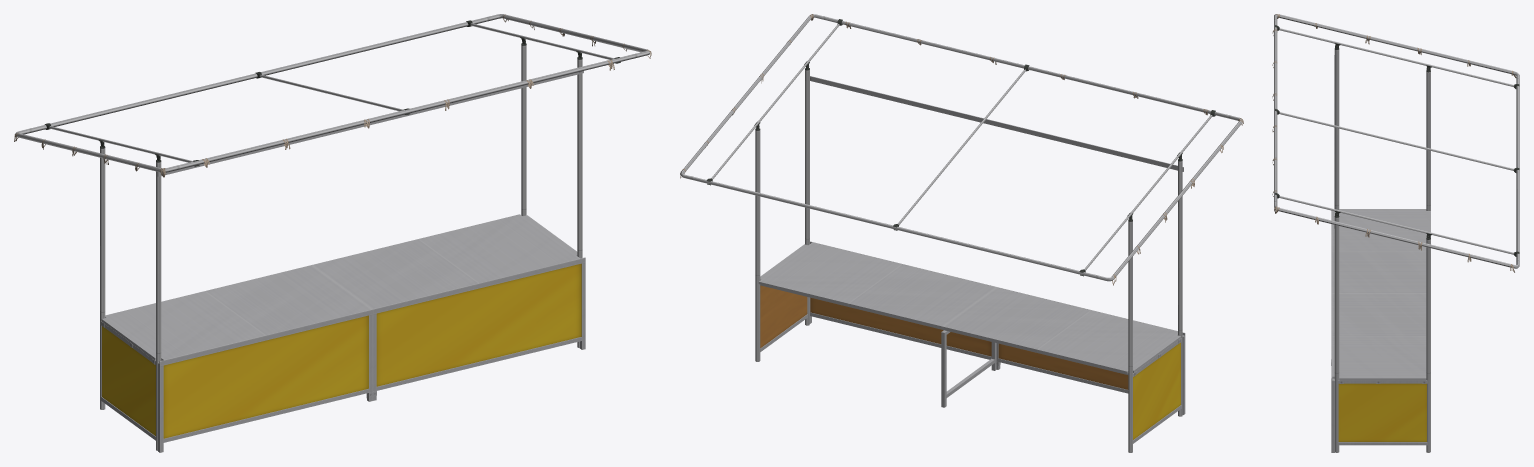
File: jsf_4P_s04_c03_t01.fbx
3 views of the same model, side by side, from view 1: azimuth 30°, elevation 25°; view 2: azimuth 150°, elevation 25°; view 3: azimuth 270°, elevation 25° (orthographic). The views are drawn at different scales.
Visible parts, largest first — view 1: Base_s04_c03, Table_4P_s04_t01, Pillar4_s04, Rope_4P_s04; view 2: Table_4P_s04_t01, Pillar4_s04, Base_s04_c03, Support; view 3: Table_4P_s04_t01, Pillar4_s04, Base_s04_c03, Rope_4P_s04.
Part boxes in pixels (x1=…): Base_s04_c03: x1=100, y1=257, x2=585, y2=452; Table_4P_s04_t01: x1=101, y1=214, x2=579, y2=364; Pillar4_s04: x1=14, y1=14, x2=649, y2=450; Rope_4P_s04: x1=14, y1=14, x2=651, y2=177; Table_4P_s04_t01: x1=758, y1=242, x2=1181, y2=376; Pillar4_s04: x1=680, y1=14, x2=1242, y2=452; Base_s04_c03: x1=760, y1=241, x2=1185, y2=443; Support: x1=941, y1=330, x2=996, y2=407; Table_4P_s04_t01: x1=1332, y1=209, x2=1430, y2=383; Pillar4_s04: x1=1274, y1=14, x2=1519, y2=452; Base_s04_c03: x1=1331, y1=210, x2=1427, y2=452; Rope_4P_s04: x1=1272, y1=14, x2=1516, y2=272.
Bounding box in the file's own units: 395 × 243 × 211.
